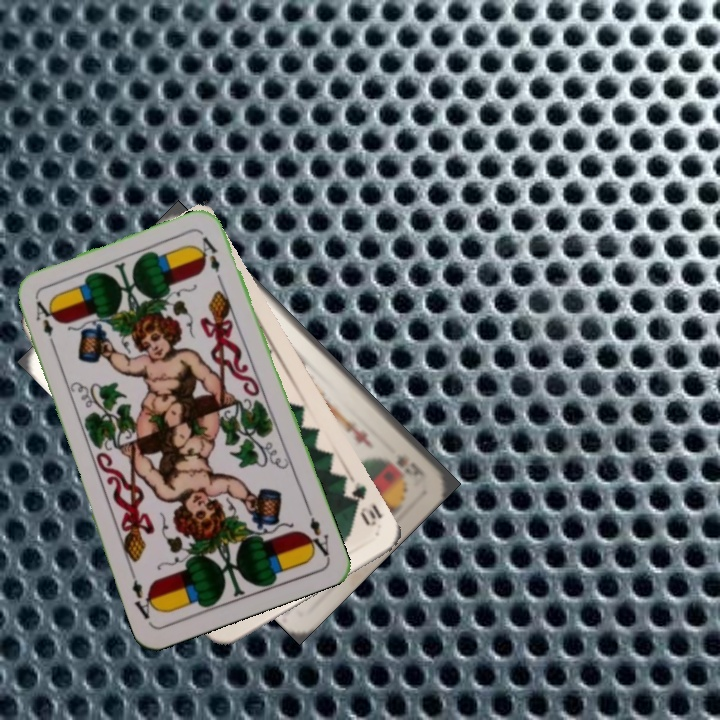EA: (302, 503, 332, 560), (31, 296, 58, 352)
G10: (339, 475, 385, 529)
SK: (392, 452, 429, 480)
